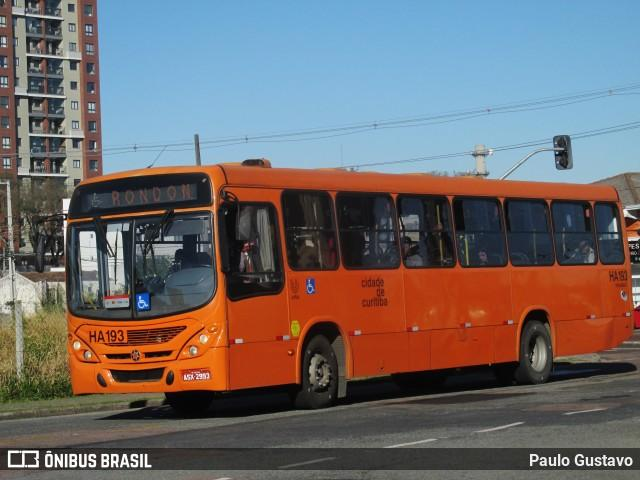RONDON: (107, 177, 199, 216)
